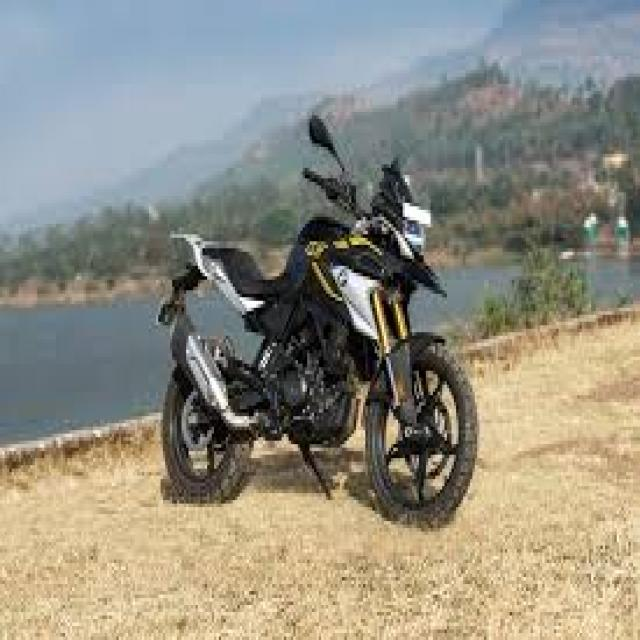Bike: (156, 114, 480, 530)
